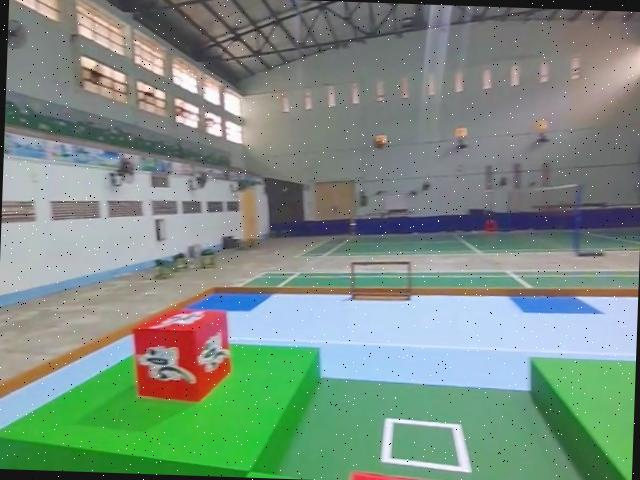R1: (128, 304, 233, 404)
